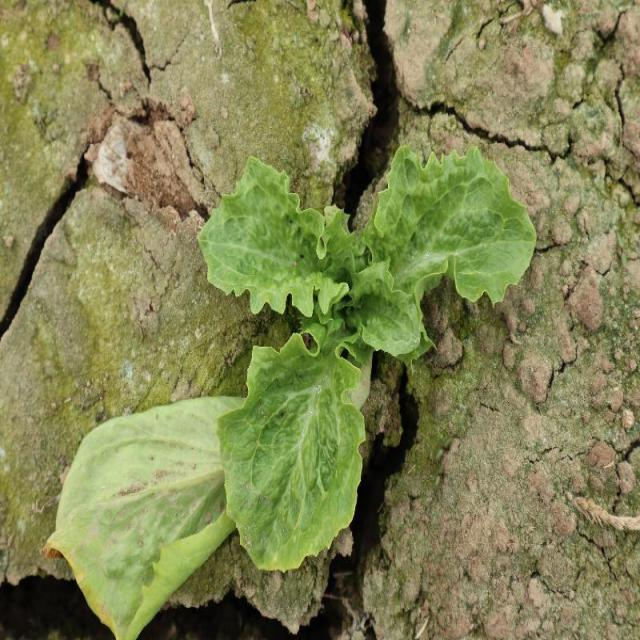crop: (45, 142, 536, 640)
